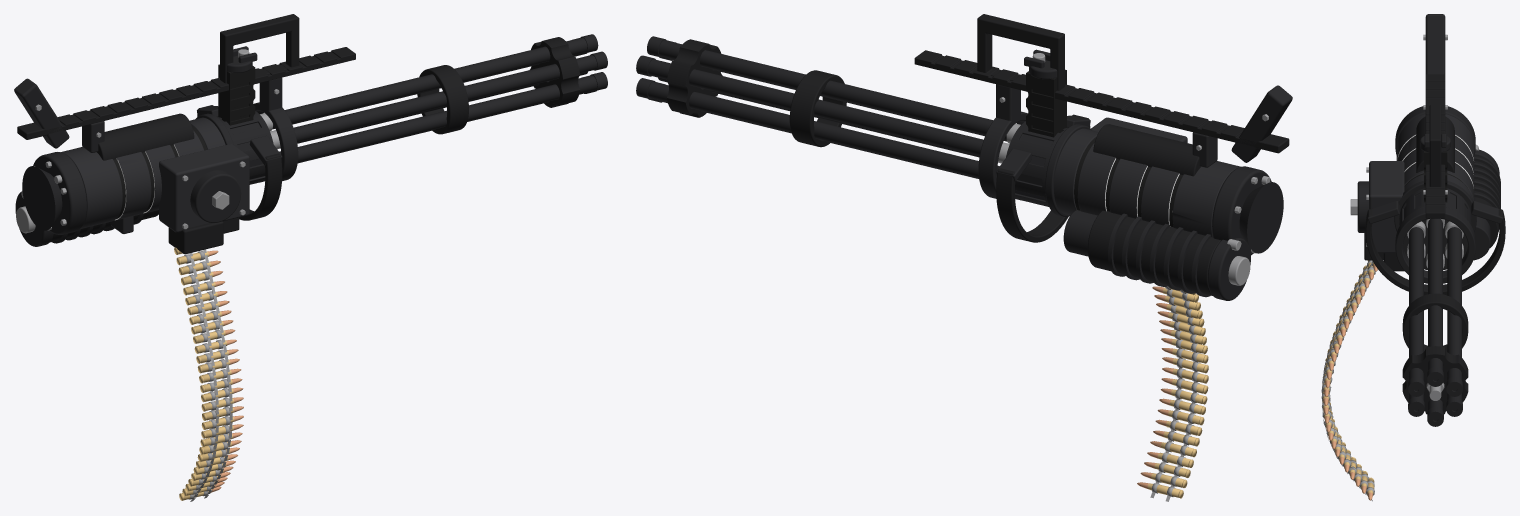
File: minigun.glb
3 renders of one model, left to right at view 1: azimuth 30°, elevation 25°; view 2: azimuth 150°, elevation 25°; view 3: azimuth 270°, elevation 25°, orthographic. The views are drawn at different scales.
Parts seen in each view (by area): view 1: AmmoBelt, Housing, Feeder, Barrel_2, Barrel_1, Barrel_3, TopRail, CamCover, CarryHandle, RearCap, RearCapDome, FeederSprocketCover (+9 smaller); view 2: Housing, AmmoBelt, Barrel_0, Barrel_5, Motor, Barrel_1, TopRail, CamCover, CarryHandle, RearCapDome, Rotor, MidClamp (+11 smaller); view 3: AmmoBelt, Housing, Feeder, Barrel_1, Barrel_2, Barrel_0, TopRail, StrapRing, MuzzleClamp, FrontCradle, Rotor, MidClamp (+18 smaller).
Part boxes in pixels (x1,y1,x2,y2): AmmoBelt: (174, 247, 243, 501); Housing: (61, 117, 225, 228); Feeder: (159, 144, 249, 232); Barrel_2: (293, 55, 597, 142); Barrel_1: (272, 37, 587, 128); Barrel_3: (279, 75, 597, 162); TopRail: (35, 47, 355, 137); CamCover: (97, 113, 194, 160); CarryHandle: (220, 14, 299, 83); RearCap: (33, 152, 86, 234); RearCapDome: (22, 166, 62, 230); FeederSprocketCover: (190, 170, 241, 222); Housing: (1054, 128, 1240, 237); AmmoBelt: (1137, 286, 1208, 501); Barrel_0: (648, 59, 983, 155); Barrel_5: (648, 82, 999, 178); Motor: (1087, 210, 1220, 295); Barrel_1: (659, 40, 1006, 140); TopRail: (914, 50, 1268, 150); CamCover: (1093, 124, 1200, 176); CarryHandle: (977, 14, 1064, 90); RearCapDome: (1239, 182, 1283, 253); Rotor: (1006, 121, 1067, 206); MidClamp: (789, 70, 846, 147); AmmoBelt: (1321, 260, 1377, 501); Housing: (1396, 114, 1474, 200); Feeder: (1369, 161, 1404, 253); Barrel_1: (1428, 218, 1442, 380); Barrel_2: (1409, 227, 1423, 390); Barrel_0: (1447, 227, 1461, 390); TopRail: (1425, 72, 1445, 218); StrapRing: (1365, 209, 1505, 295); MuzzleClamp: (1402, 346, 1468, 414); FrontCradle: (1395, 207, 1475, 283); Rotor: (1399, 188, 1471, 270); MidClamp: (1402, 293, 1468, 351).
Size of the model in its own units: 1 by 0.7155 by 0.284.
